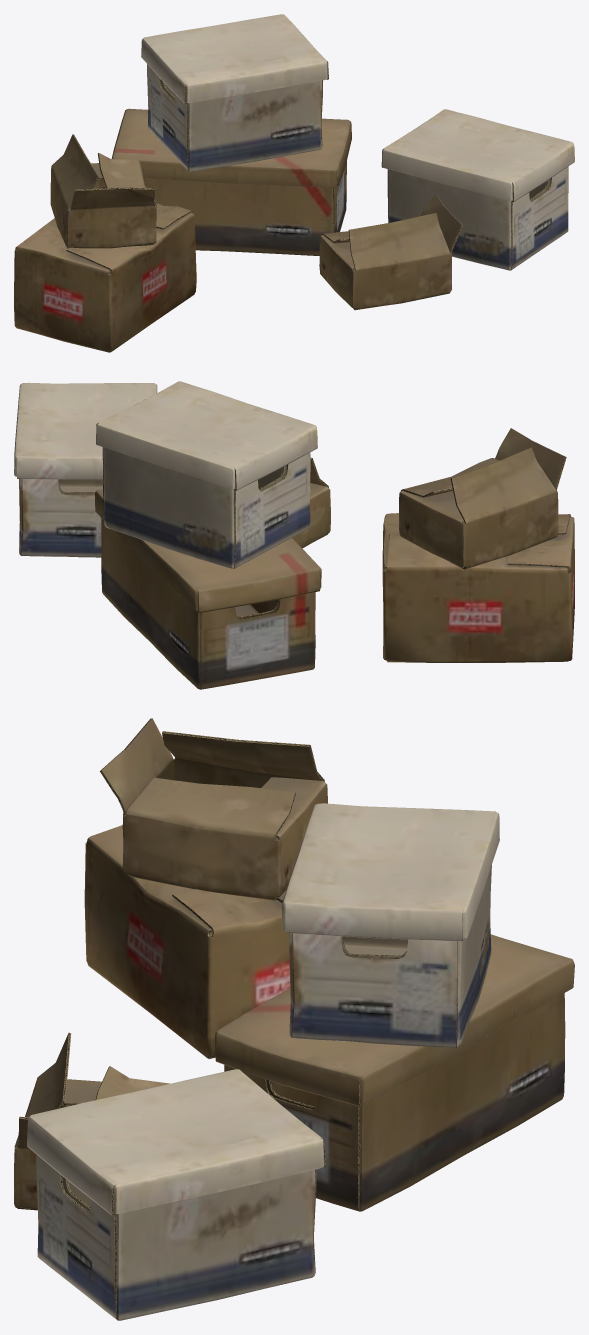
File: case-boxes.glb
3 views of the same model, one above another, from view 1: azimuth 30°, elevation 25°; view 2: azimuth 150°, elevation 25°; view 3: azimuth 270°, elevation 25° (orthographic). The views are drawn at different scales.
Parts seen in each view (by area): view 1: BoxA_PI_BOX_0, BoxA_PI_BOX_SIDE_0; view 2: BoxA_PI_BOX_0, BoxA_PI_BOX_SIDE_0; view 3: BoxA_PI_BOX_0, BoxA_PI_BOX_SIDE_0.
Part boxes in pixels (box(x1,y1,x2,y2)): BoxA_PI_BOX_0: box(14, 14, 574, 351); BoxA_PI_BOX_SIDE_0: box(15, 48, 568, 352); BoxA_PI_BOX_0: box(14, 381, 574, 689); BoxA_PI_BOX_SIDE_0: box(21, 423, 571, 689); BoxA_PI_BOX_0: box(14, 718, 574, 1320); BoxA_PI_BOX_SIDE_0: box(14, 718, 572, 1320).
Bounding box in the file's own units: 0.6961 × 0.2334 × 0.4169.
Materials: 2 (2 with a texture image).
